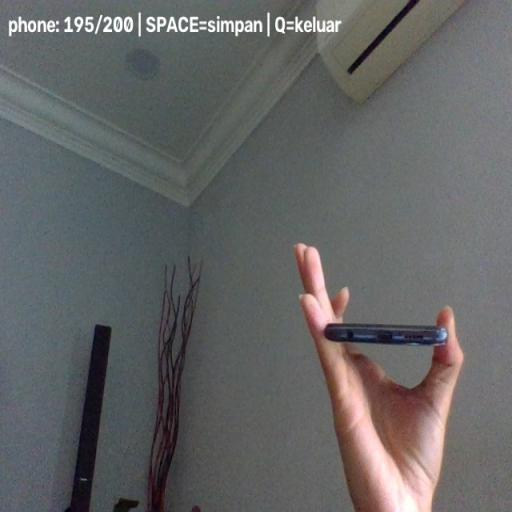Phone: (325, 322, 449, 346)
